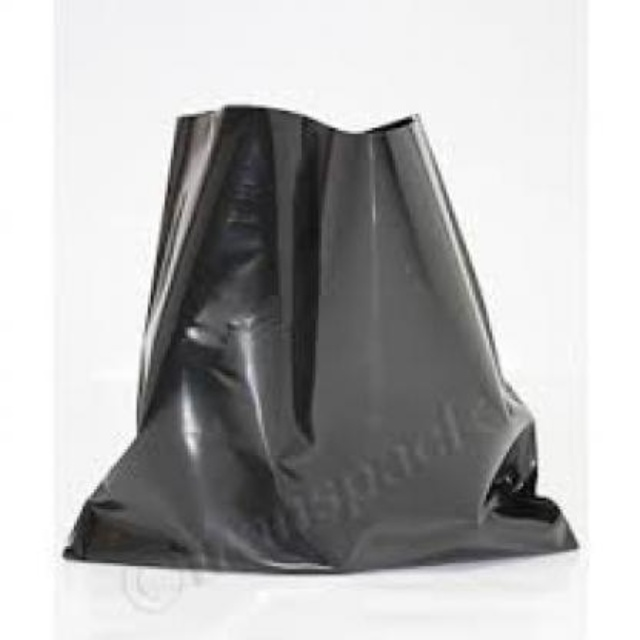trash: (65, 106, 575, 571)
